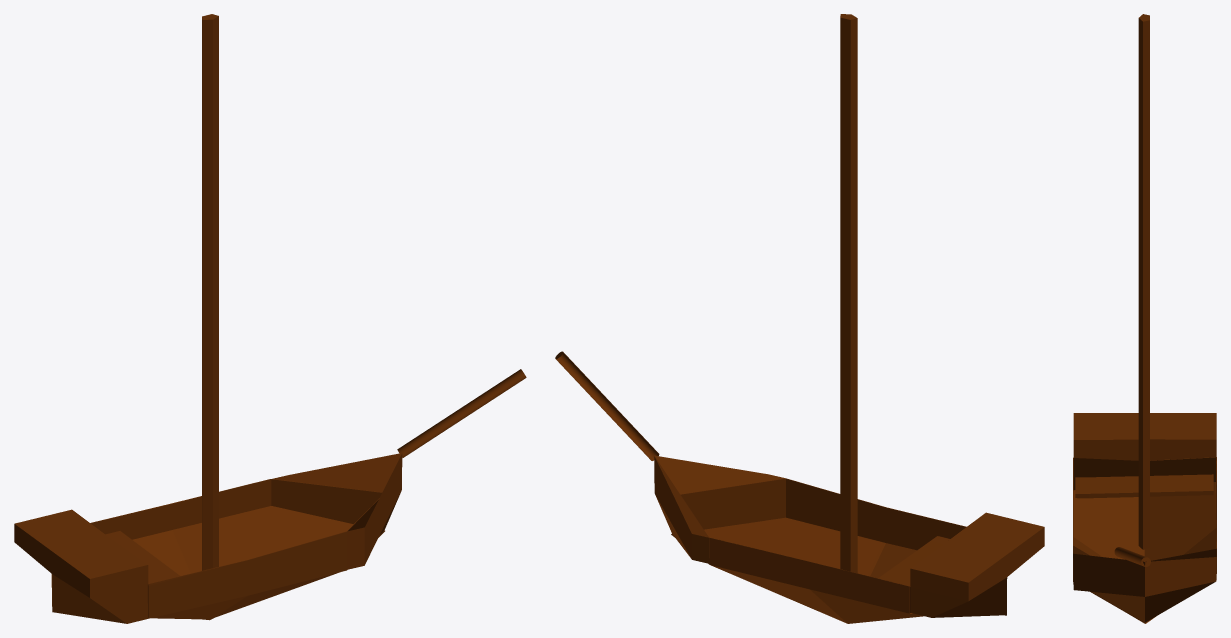
Rendered from boat2_proto3.fbx.
3 renders of one model, left to right at view 1: azimuth 30°, elevation 25°; view 2: azimuth 150°, elevation 25°; view 3: azimuth 270°, elevation 25°, orthographic. The views are drawn at different scales.
Visible parts, largest first — view 1: Plane; view 2: Plane; view 3: Plane.
Boxes of the visible parts, x1,y1,x2,y2 form: Plane: (14, 14, 526, 623); Plane: (555, 14, 1044, 623); Plane: (1073, 14, 1216, 623).
Size of the model in its own units: 7.04 by 8.81 by 2.02.
